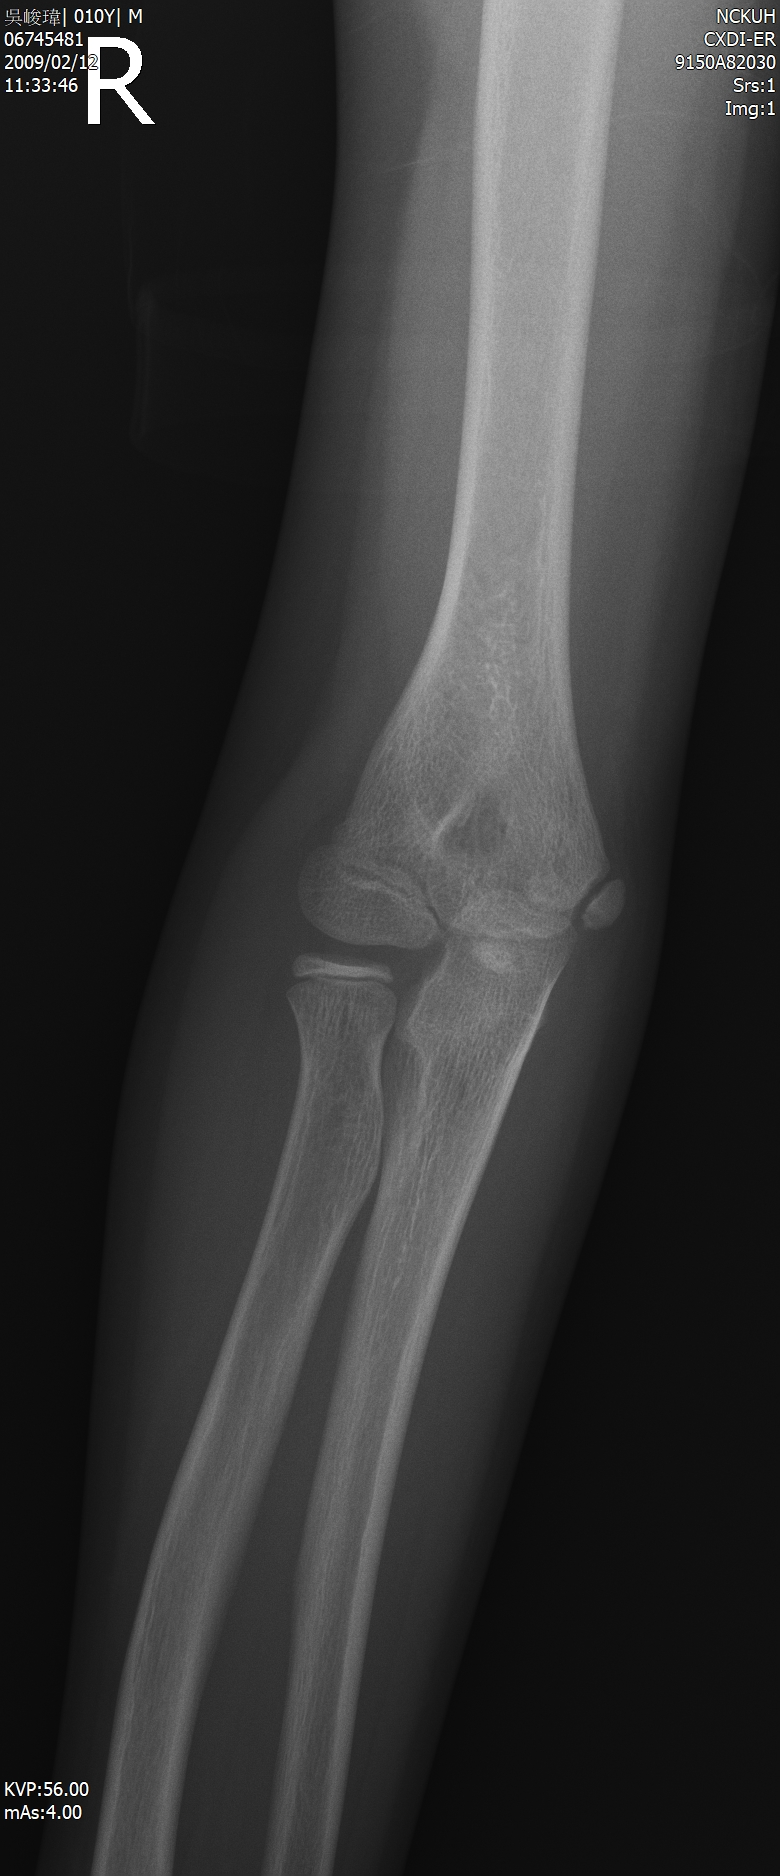Normal: (163, 616, 688, 1194)
